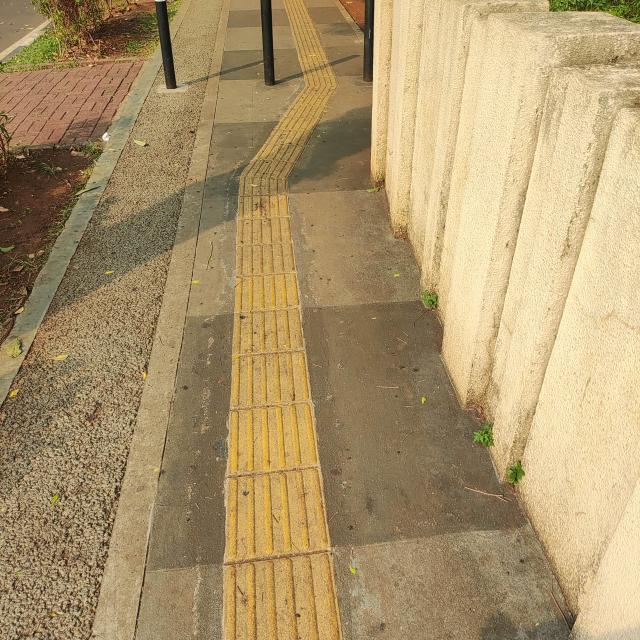lurus: (210, 190, 335, 640)
